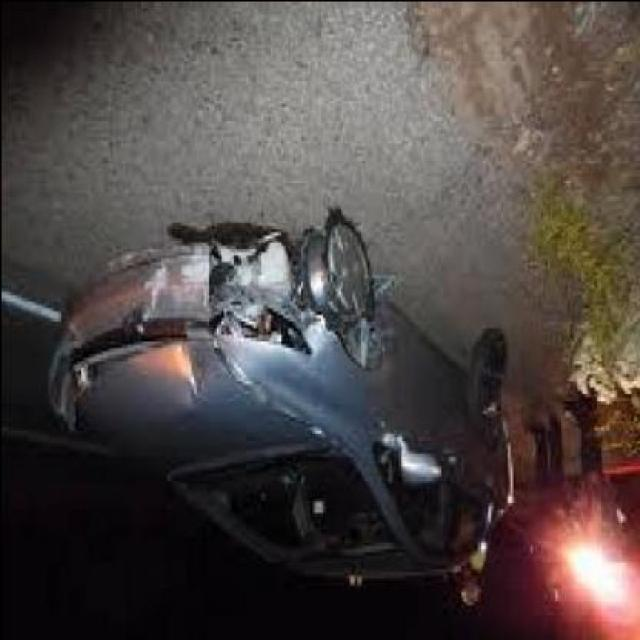damage: (98, 222, 399, 421)
